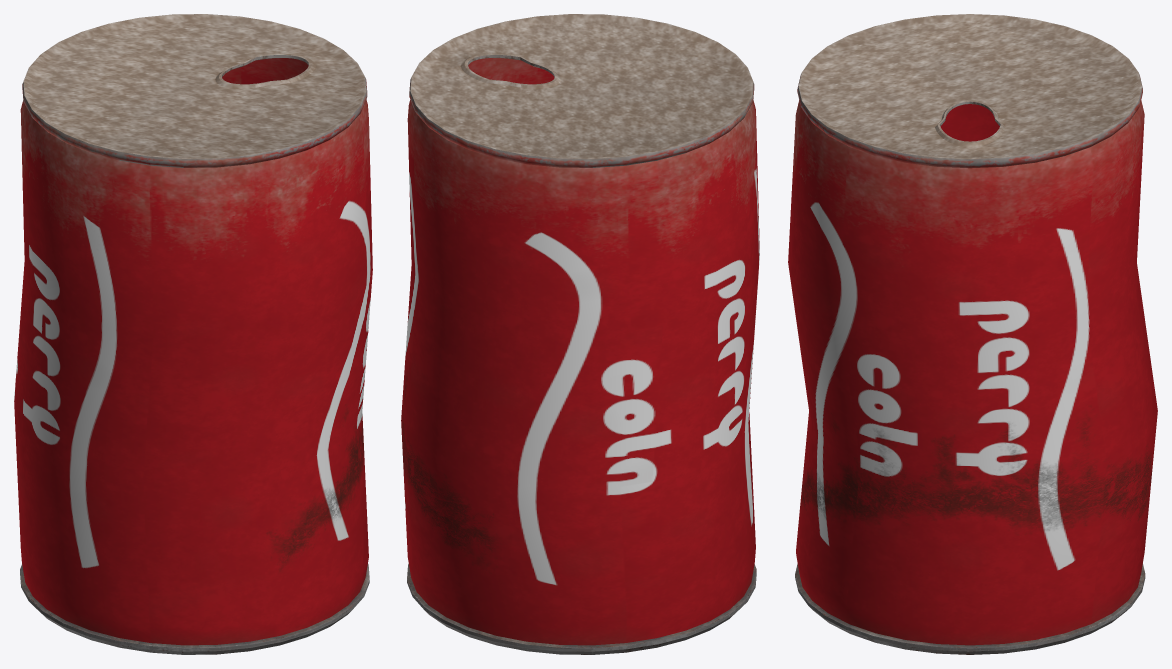
File: Perrybox.fbx
The picture shows the model from 3 angles, left to right: view 1: azimuth 30°, elevation 25°; view 2: azimuth 150°, elevation 25°; view 3: azimuth 270°, elevation 25°; orthographic projection.
Visible parts, largest first — view 1: Cylinder; view 2: Cylinder; view 3: Cylinder.
Part boxes in pixels (x1,y1,x2,y2): Cylinder: (14,14,372,654); Cylinder: (401,14,759,654); Cylinder: (788,14,1157,654).
Bounding box in the file's own units: 12.64 × 19.76 × 13.34.
1 material, 1 textured.
